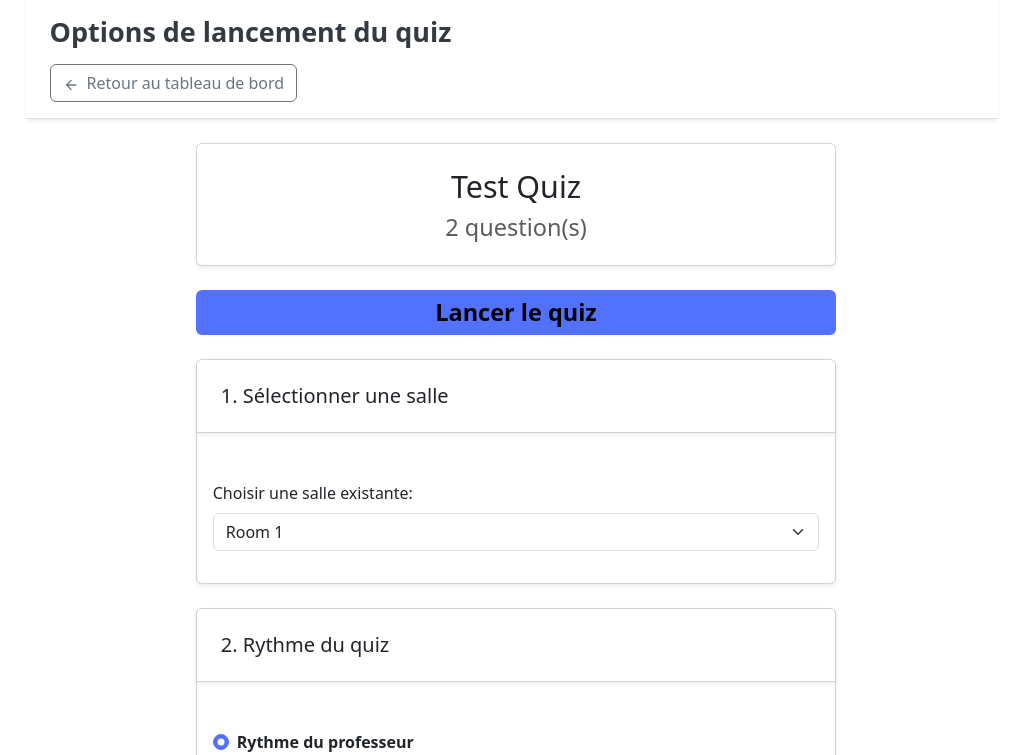
Scenario: ManageRoomV2 Component › Error Handling › should handle create-failure event
The width and height of the screenshot is (1024, 755).
Select "Room 1" in the dropdown at (516, 532), box [213,513,819,551]
Click the button "Lancer le quiz" at (516, 312), box [196,290,836,335]
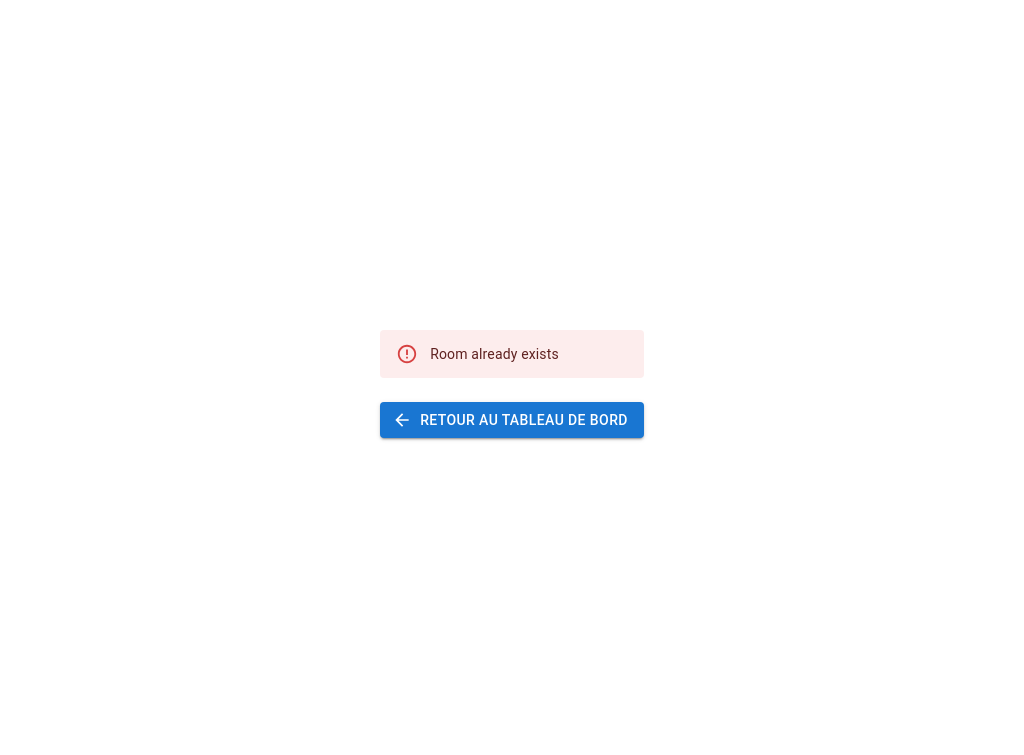
Expected: the button "Retour au tableau de bord" is shown, [380,402,644,438]
Expected: the text "Room already exists" is shown, [430,346,559,362]
